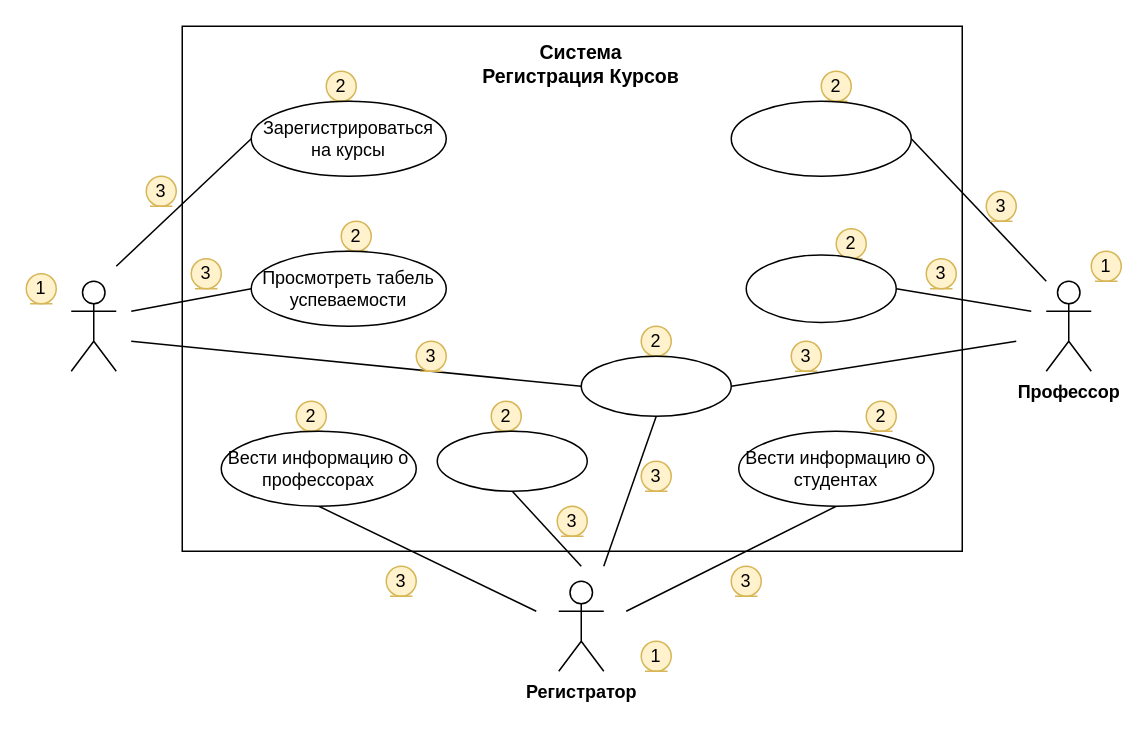
This 1148x729 diagram has some shape labels left out. The shapes that lost their labels are listed below. From the top down, each one's box as (x1, y1, x2, y2) in pixels, then its label:
(730, 100, 911, 176): Выбрать курсы для преподавания
(745, 254, 896, 322): Проставить оценки
(70, 280, 116, 371): Студент
(580, 355, 731, 416): Войти в систему
(436, 430, 587, 491): Закрыть регистрацию
